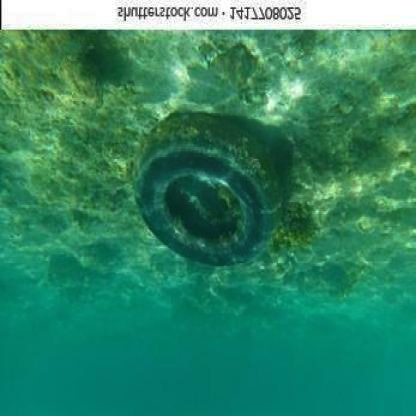tire: (133, 122, 269, 264)
